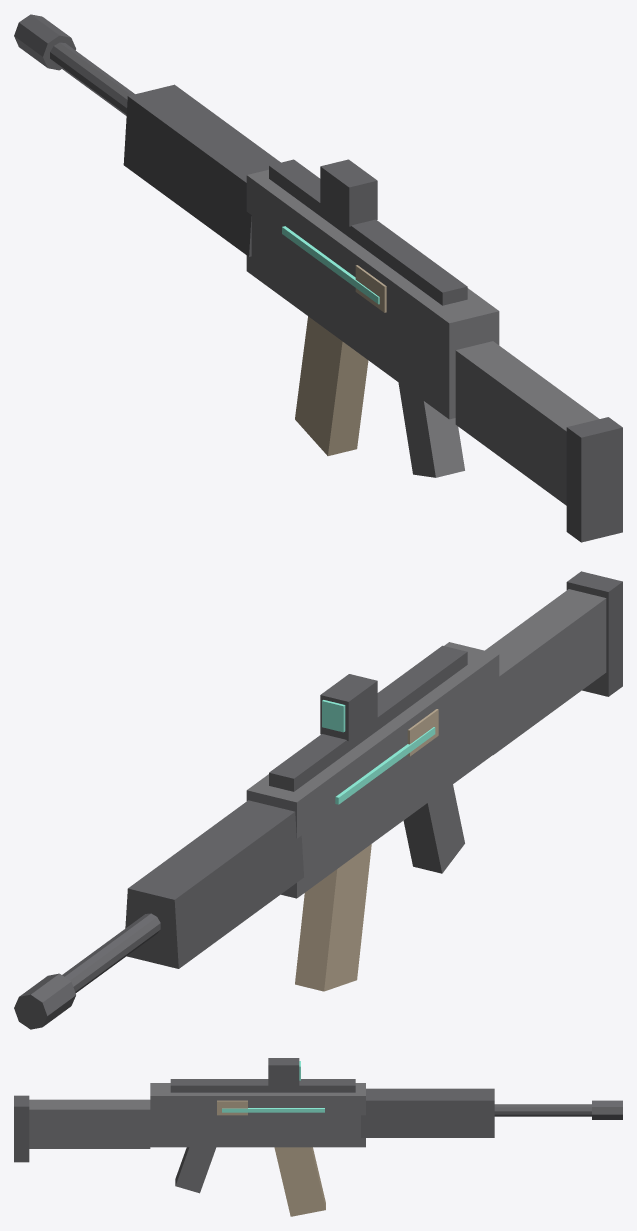
Rendered from Weapon_AR.fbx.
3 renders of one model, top to bottom at view 1: azimuth 30°, elevation 25°; view 2: azimuth 150°, elevation 25°; view 3: azimuth 270°, elevation 25°, orthographic. The views are drawn at different scales.
Visible parts, largest first — view 1: Receiver, Handguard, StockMesh, Mag, ButtPad, Rail, GripMesh, SightHousing, BarrelTube, MuzzleBrake, GlowStrip_L, Ejector; view 2: Receiver, Handguard, StockMesh, Mag, Rail, GripMesh, ButtPad, BarrelTube, SightHousing, MuzzleBrake, GlowStrip_L, Ejector (+1 smaller); view 3: Receiver, Handguard, StockMesh, Mag, Rail, GripMesh, BarrelTube, ButtPad, SightHousing, MuzzleBrake, GlowStrip_L, Ejector.
Part boxes in pixels (x1,y1,x2,y2): Receiver: (246, 169, 499, 419); Handguard: (123, 84, 280, 256); StockMesh: (455, 341, 598, 505); Mag: (295, 316, 368, 455); ButtPad: (566, 417, 622, 542); Rail: (269, 159, 467, 305); GripMesh: (398, 382, 464, 477); SightHousing: (320, 159, 377, 226); BarrelTube: (50, 42, 134, 115); MuzzleBrake: (14, 14, 75, 70); GlowStrip_L: (282, 226, 379, 304); Ejector: (355, 265, 386, 312); Receiver: (246, 642, 499, 898); Handguard: (125, 800, 303, 968); StockMesh: (485, 589, 606, 754); Mag: (295, 844, 371, 991); Rail: (269, 645, 467, 791); GripMesh: (403, 784, 464, 873); ButtPad: (566, 571, 622, 696); BarrelTube: (62, 913, 160, 992); SightHousing: (320, 674, 377, 740); MuzzleBrake: (14, 973, 75, 1029); GlowStrip_L: (335, 727, 435, 804); Ejector: (407, 709, 438, 756); Receiver: (150, 1083, 365, 1147); Handguard: (361, 1088, 494, 1137); StockMesh: (29, 1099, 150, 1148); Mag: (274, 1147, 325, 1216); Rail: (170, 1079, 355, 1092); GripMesh: (175, 1147, 216, 1193); BarrelTube: (494, 1104, 591, 1116); ButtPad: (14, 1095, 29, 1162); SightHousing: (268, 1058, 299, 1086); MuzzleBrake: (592, 1100, 622, 1119); GlowStrip_L: (222, 1108, 324, 1112); Ejector: (217, 1100, 247, 1115).
Size of the model in its own units: 0.068 by 1.19 by 0.3249.
